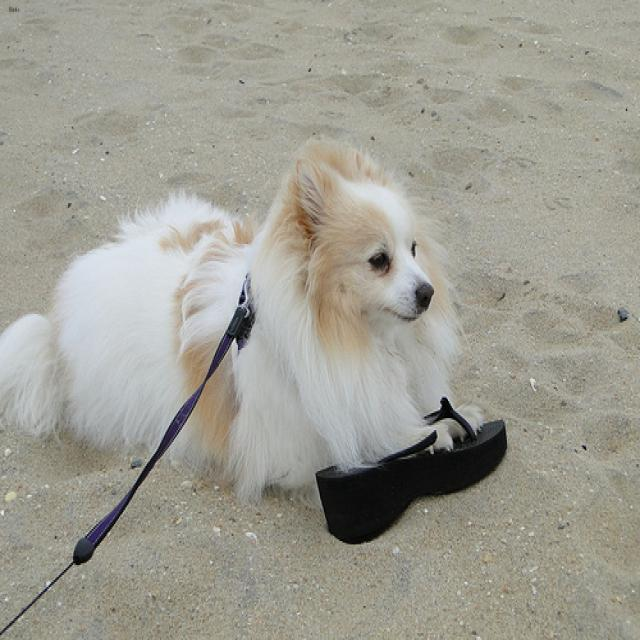dog-pomeranian: (1, 119, 492, 519)
